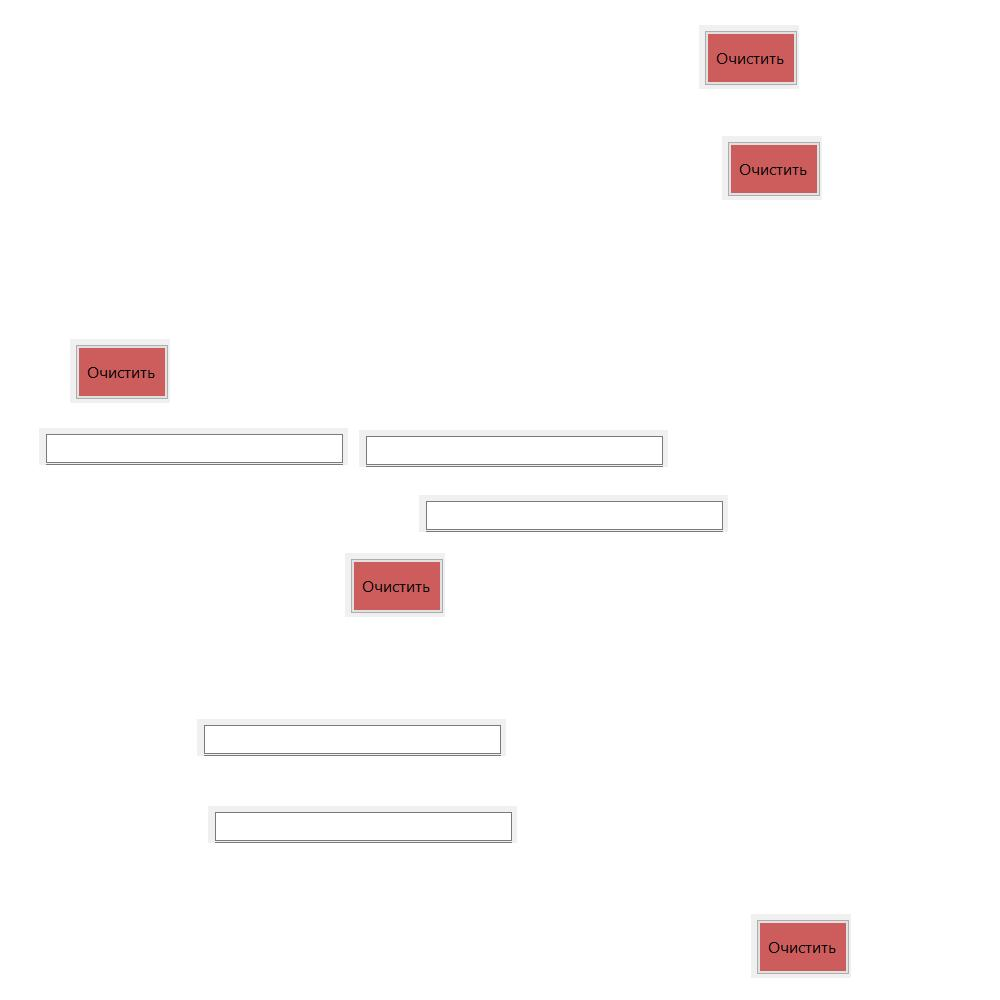Button: (70, 339, 170, 403), (699, 25, 799, 89), (345, 553, 445, 617), (751, 914, 851, 978), (722, 136, 822, 200)
EditText-: (208, 806, 517, 843), (419, 495, 728, 532), (359, 430, 668, 467), (197, 719, 506, 756), (39, 428, 348, 465)
